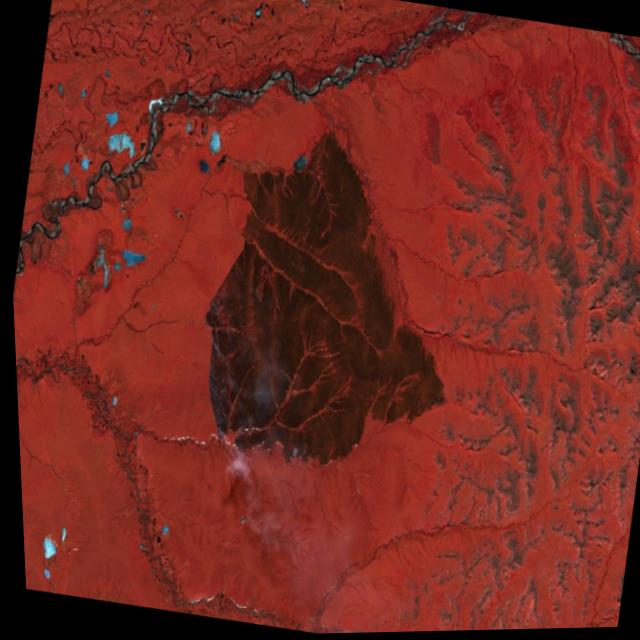fire: (174, 304, 264, 461)
